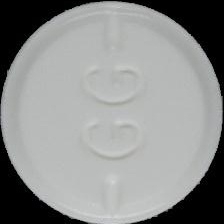55154-5412: (0, 0, 224, 224)
